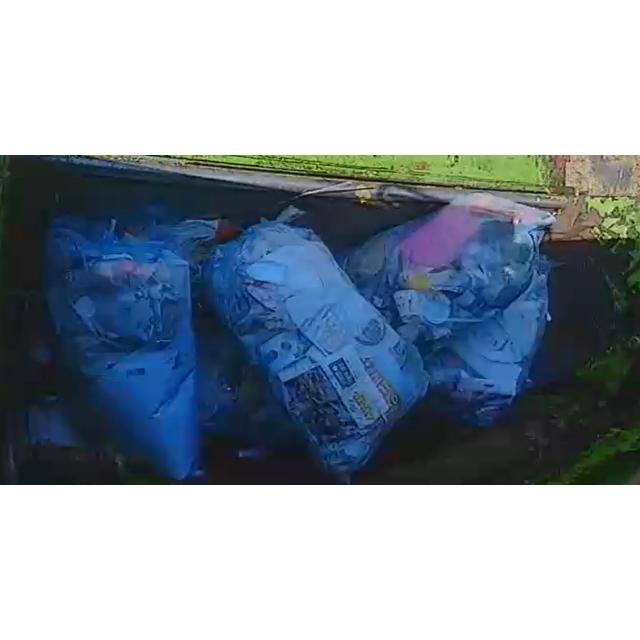other_trashbag: (211, 218, 428, 472), (48, 219, 198, 480), (345, 194, 552, 343), (125, 195, 248, 431), (424, 259, 549, 426)
